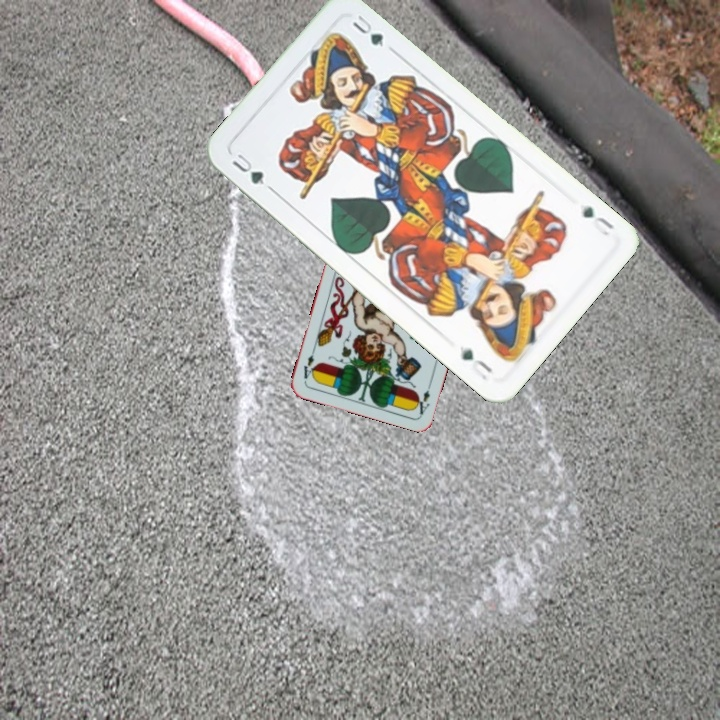EA: (411, 377, 435, 417)
GU: (227, 149, 267, 188), (578, 202, 617, 239)
